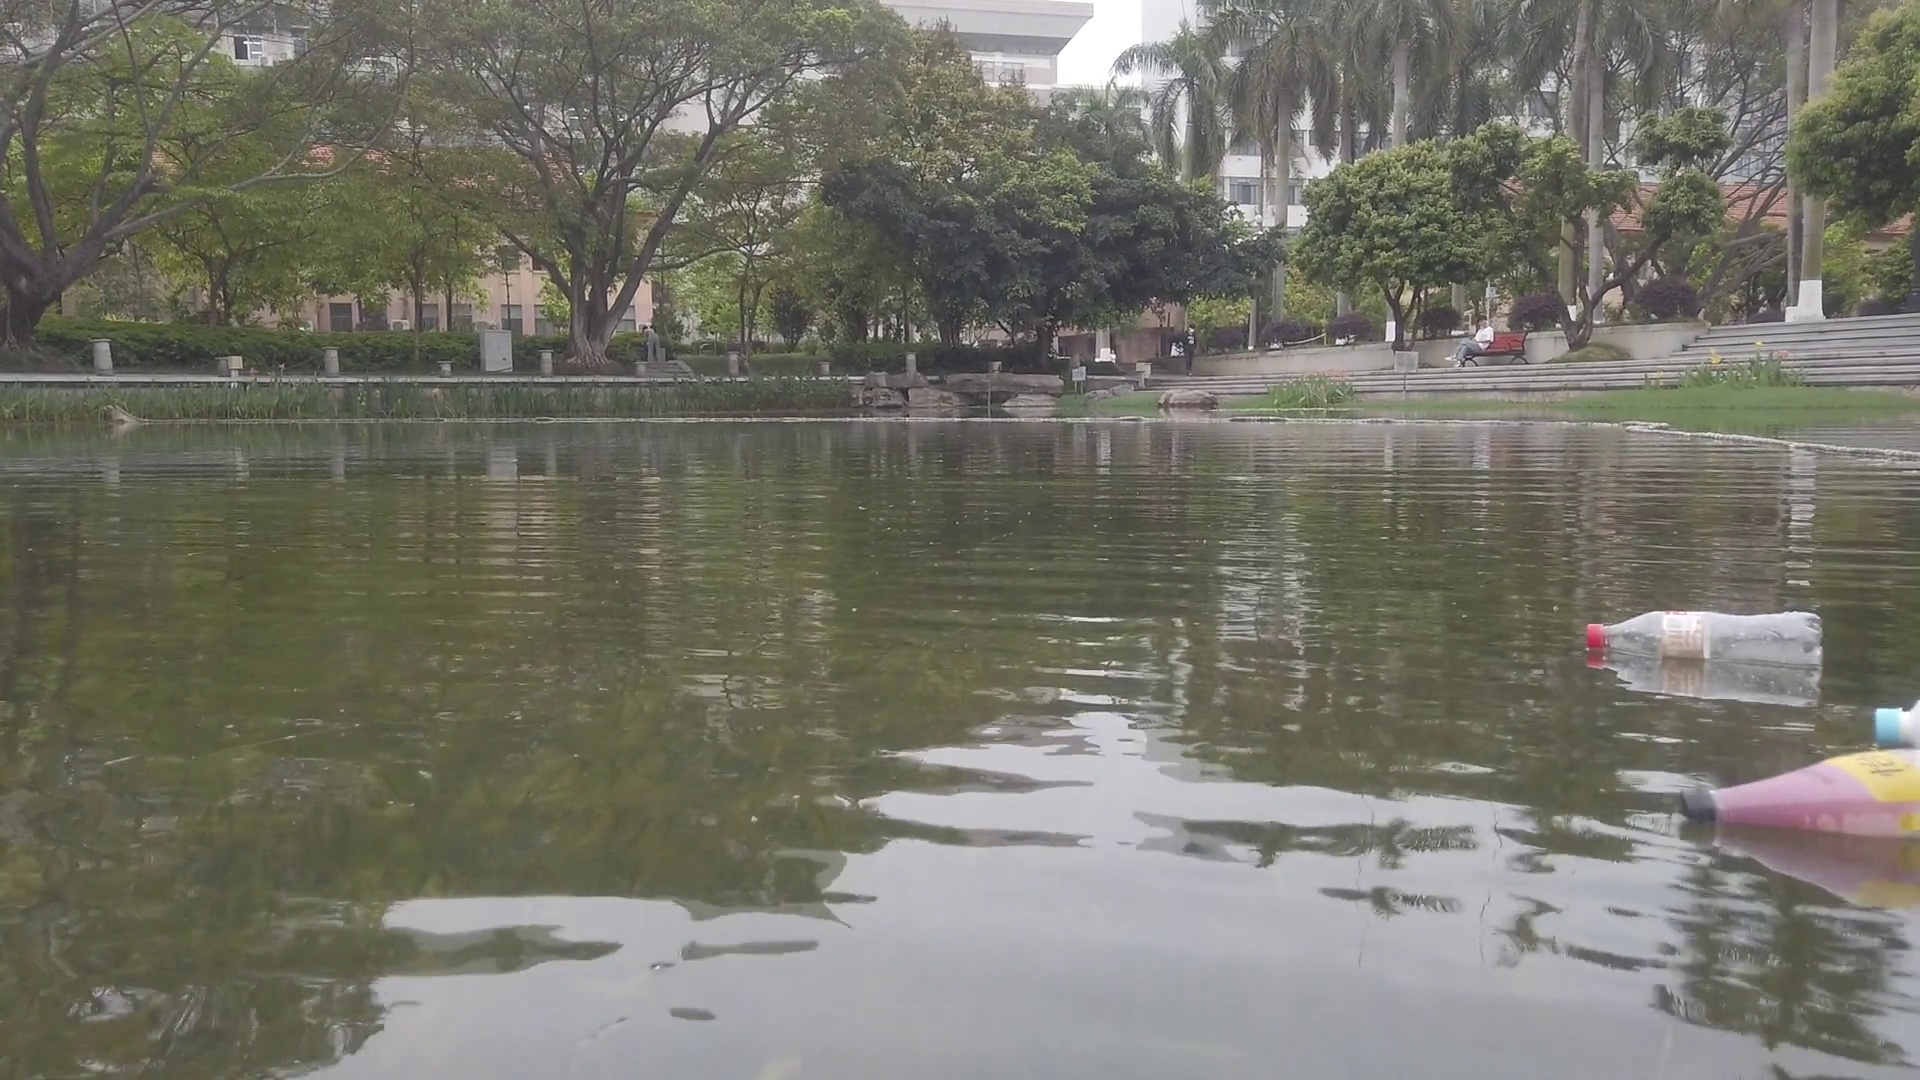bottle: (1680, 741, 1917, 839), (1589, 605, 1826, 665)
